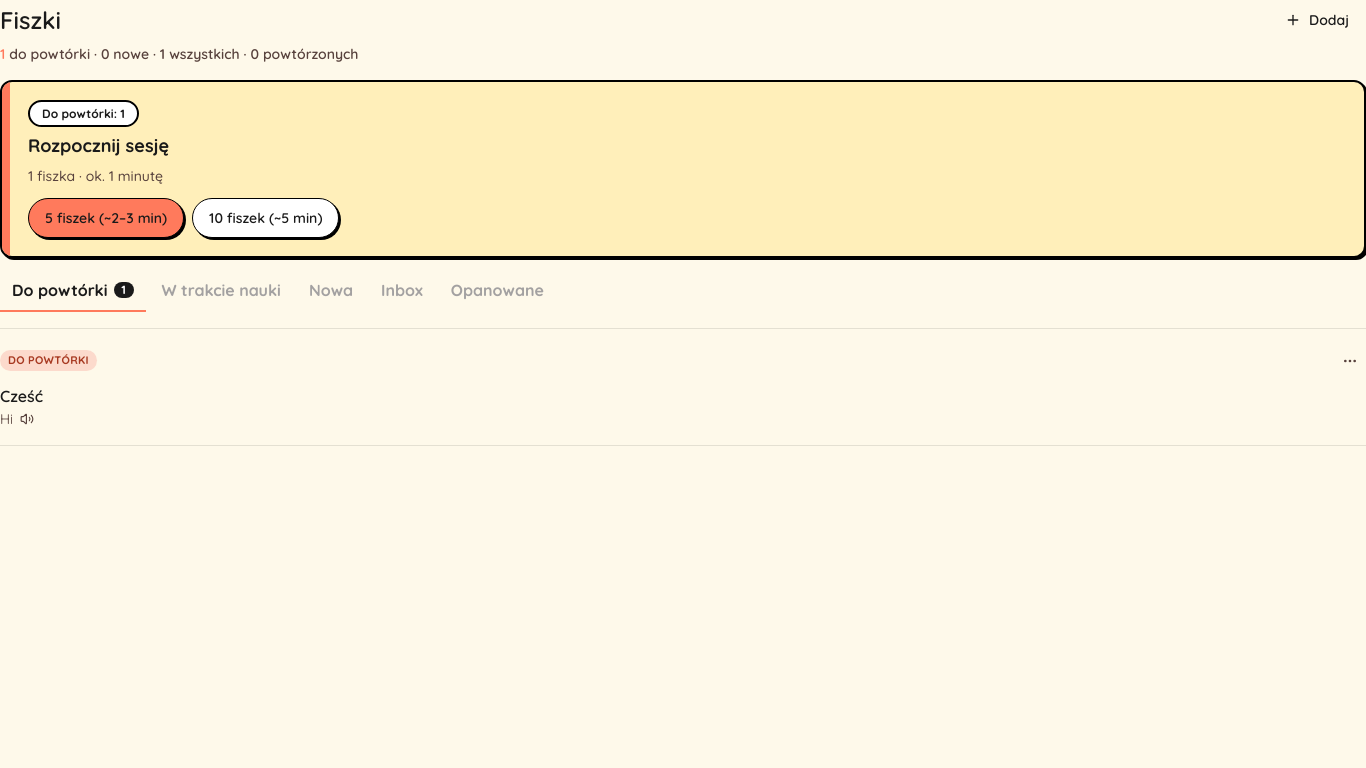
Scenario: FlashcardsView › keeps delete dialog open and shows error when delete fails
Click the button named "Opcje karty" at (1350, 360), box 1334,344 -> 1365,376
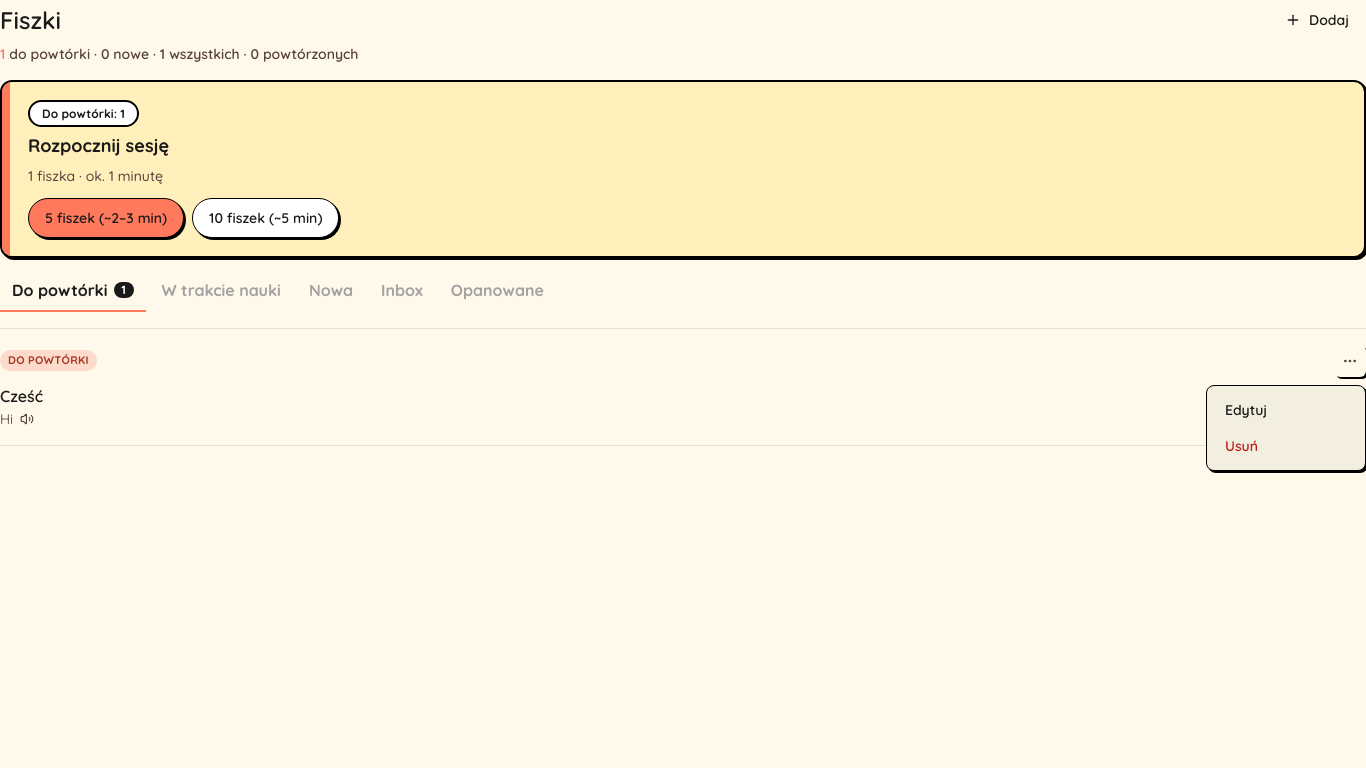
Click the menu item "Usuń" at (1242, 446), box 1225,437 -> 1258,455
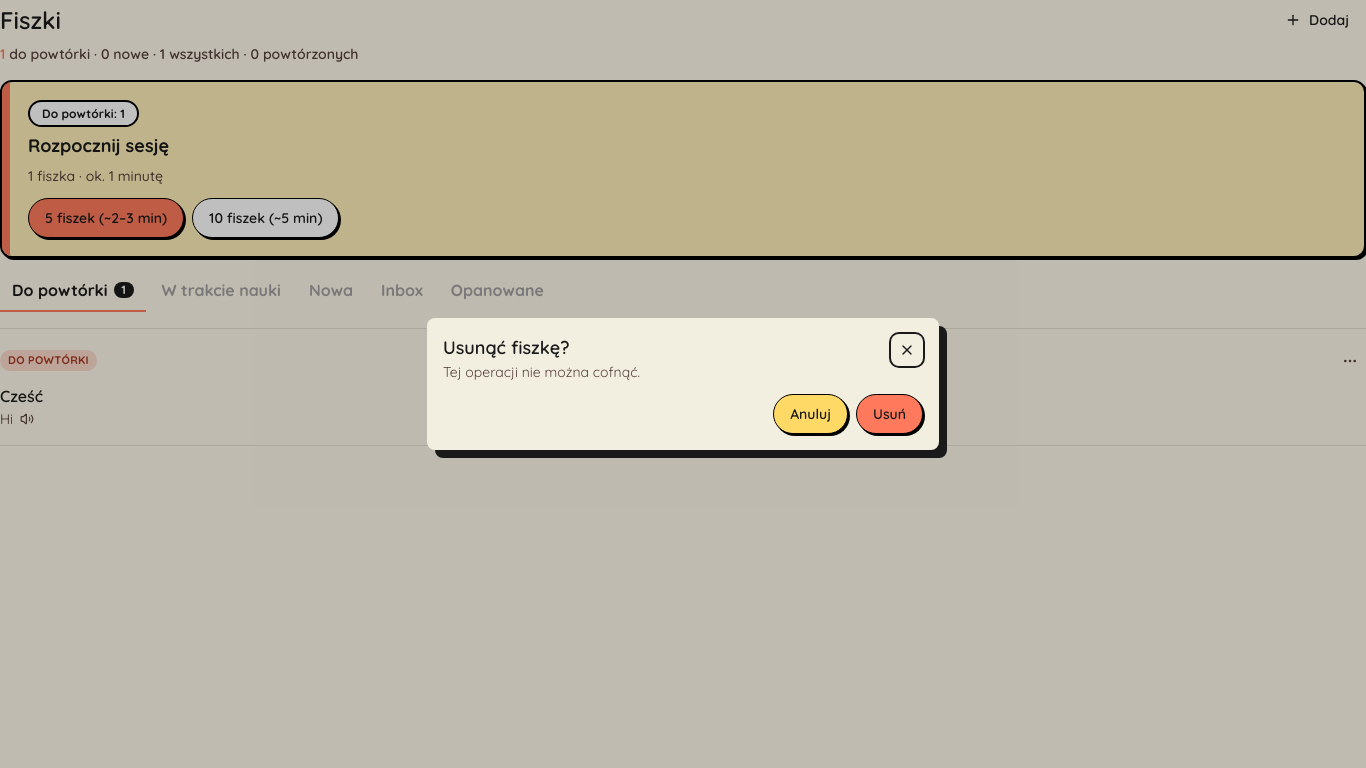
Click the button "Usuń" at (890, 414), box 856,394 -> 923,434
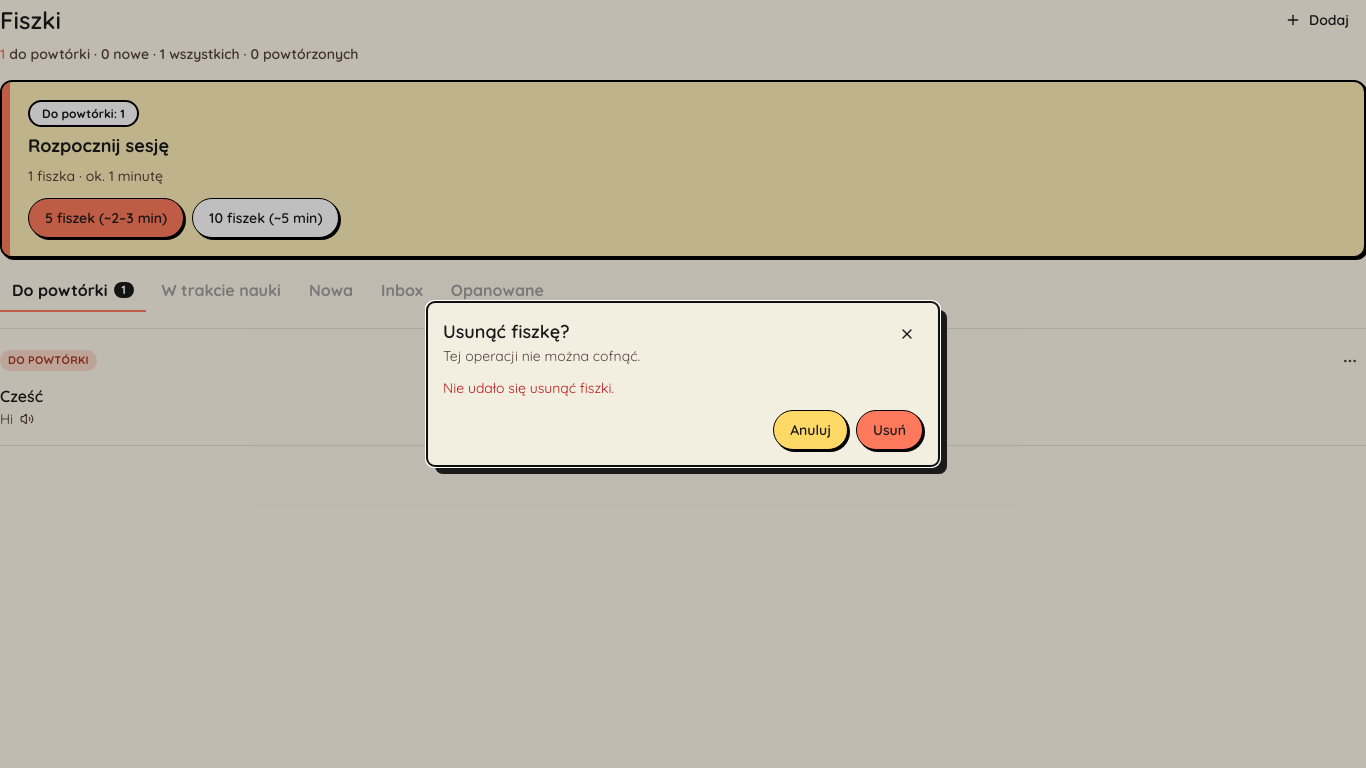
Result: the heading "Usunąć fiszkę?" is shown at 443,320 -> 570,343
Result: the text "Nie udało się usunąć fiszki." is shown at 443,379 -> 614,397
